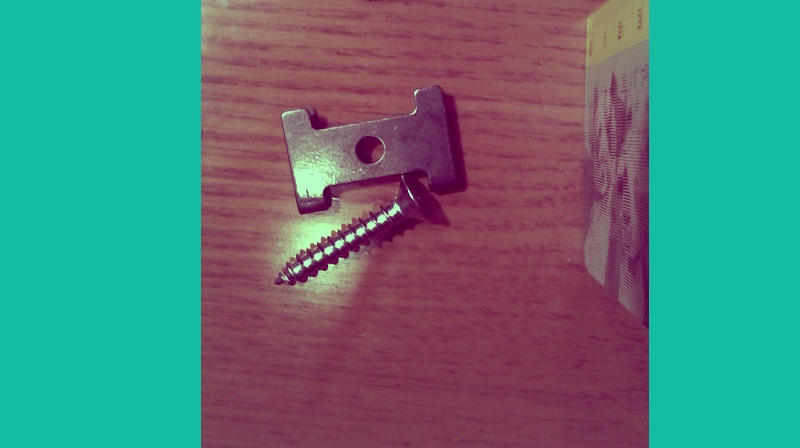O001: (329, 0, 413, 1)
O002: (279, 83, 466, 216)
S001: (272, 170, 442, 287)
